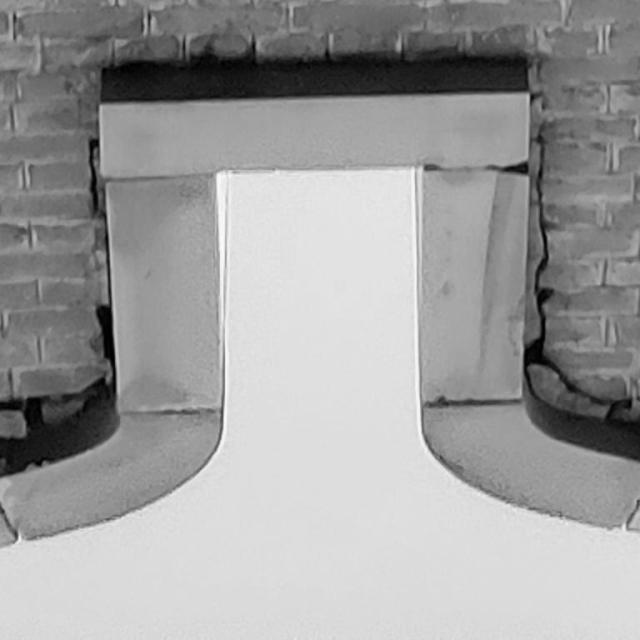crack: (1, 140, 116, 461), (523, 92, 632, 428)
